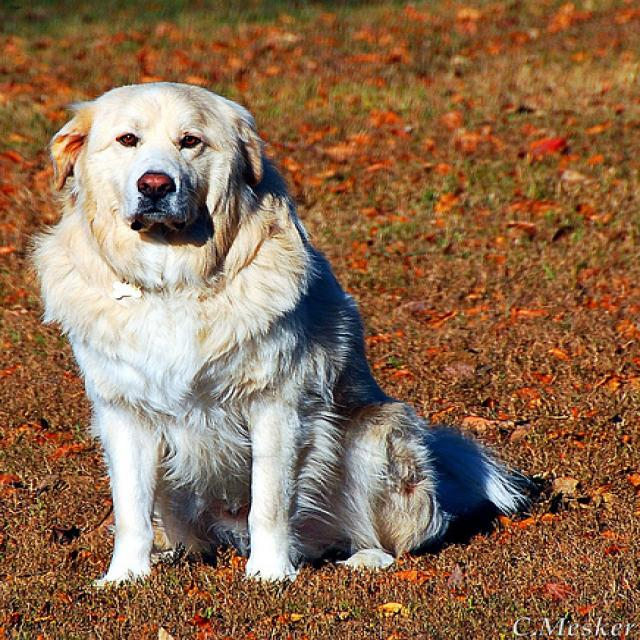dog-great_pyrenees: (21, 67, 552, 594)
